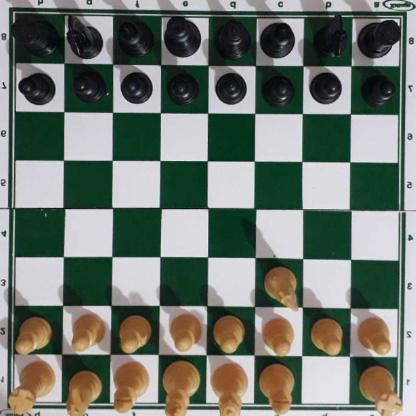black-bishop: (116, 16, 156, 55), (259, 19, 298, 56)
black-king: (164, 16, 204, 57)
black-knight: (69, 11, 103, 57), (316, 12, 348, 56)
black-pawn: (20, 69, 57, 105), (121, 68, 154, 103), (74, 66, 106, 101), (217, 68, 248, 104), (312, 69, 343, 104), (363, 72, 396, 104), (264, 71, 295, 105), (169, 70, 199, 104)
black-queen: (214, 17, 252, 56)
black-rook: (14, 10, 56, 55), (358, 16, 404, 57)
white-bishop: (259, 364, 295, 416), (114, 361, 151, 411)
white-king: (164, 360, 201, 414)
white-knight: (67, 367, 103, 414), (266, 264, 301, 308)
white-pawn: (70, 311, 107, 351), (357, 314, 393, 354), (169, 311, 204, 351), (16, 314, 52, 352), (214, 313, 247, 351), (119, 313, 152, 351), (263, 317, 296, 355), (312, 317, 345, 353)
white-queen: (213, 361, 250, 413)
white-rook: (11, 358, 54, 414), (361, 361, 401, 416)
